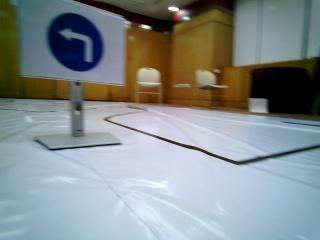left: (23, 0, 122, 77)
